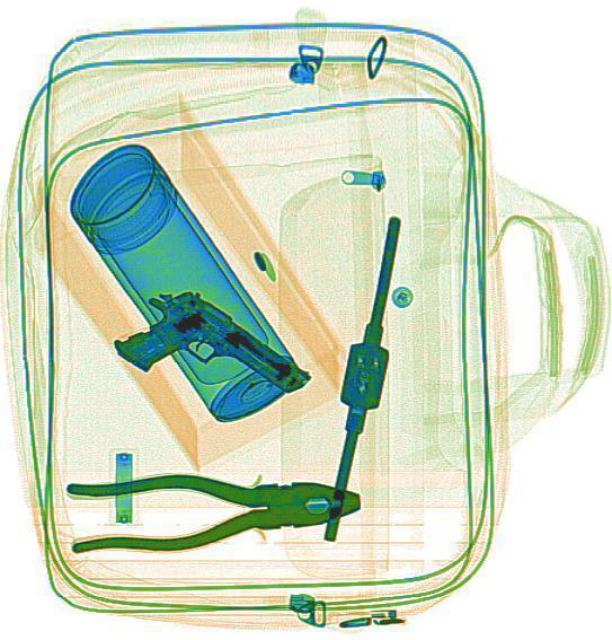Gun: (107, 269, 311, 451)
Pliers: (65, 466, 362, 552)
